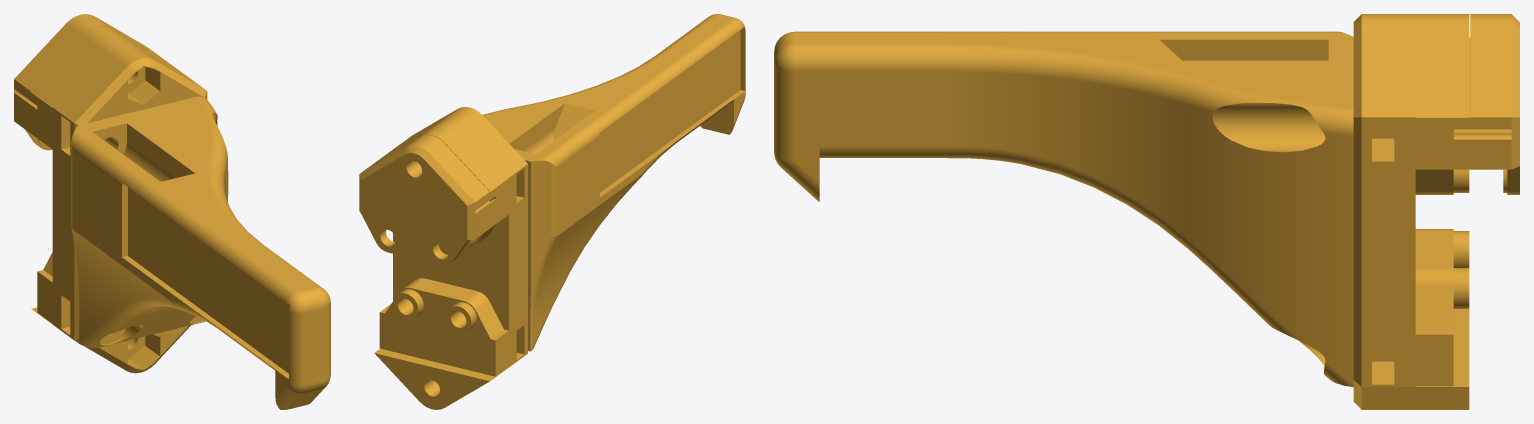
The model's file is gripperRight.obj.
The picture shows the model from 3 angles, left to right: view 1: azimuth 30°, elevation 25°; view 2: azimuth 150°, elevation 25°; view 3: azimuth 270°, elevation 25°; orthographic projection. The views are drawn at different scales.
Parts seen in each view (by area): view 1: gripper; view 2: gripper; view 3: gripper.
Boxes of the visible parts, bbox=[...] form: gripper: bbox=[14, 14, 330, 409]; gripper: bbox=[359, 14, 745, 409]; gripper: bbox=[774, 14, 1519, 409].
Bounding box in the file's own units: 2.6 × 5.2 × 9.01.
